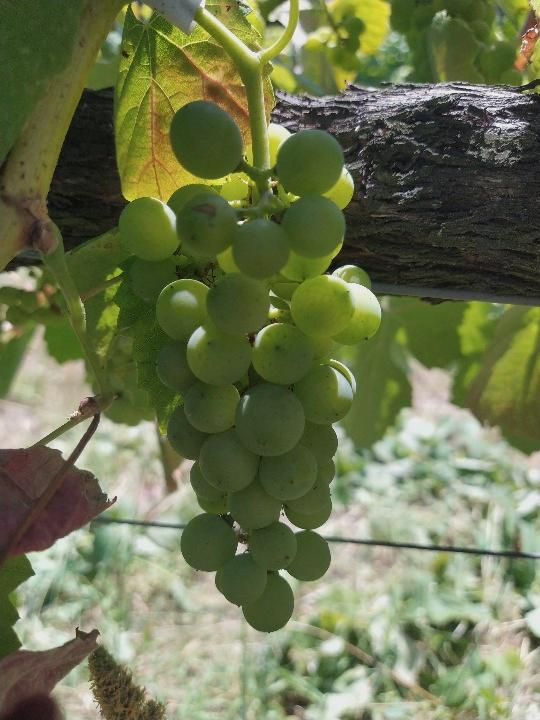grape: (118, 97, 384, 633)
